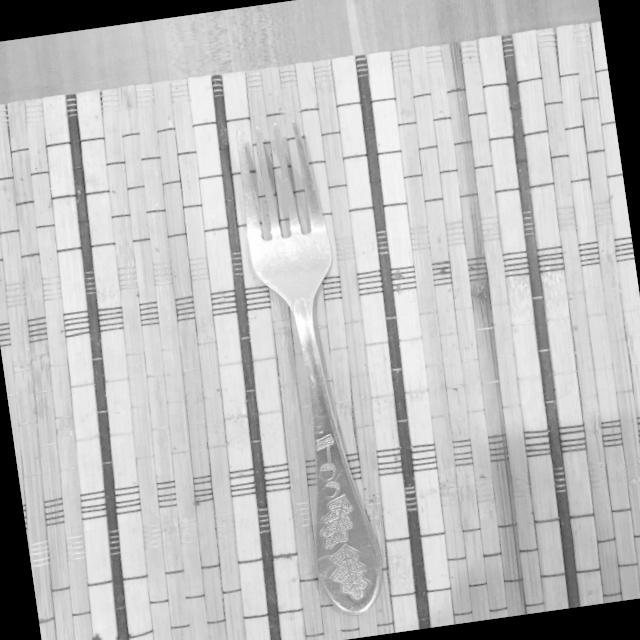fork: (230, 117, 388, 625)
